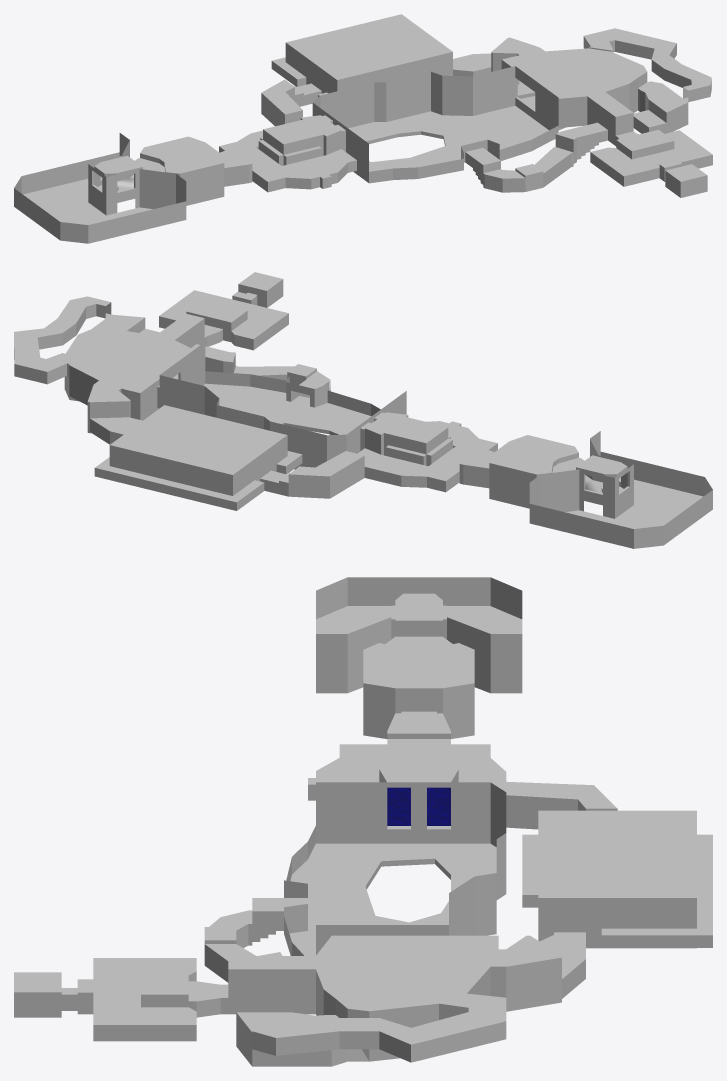
3 renders of one model, top to bottom at view 1: azimuth 30°, elevation 25°; view 2: azimuth 150°, elevation 25°; view 3: azimuth 270°, elevation 25°, orthographic. The views are drawn at different scales.
Visible parts, largest first — view 1: room9_Plane.007, room1_Plane.001, room6_Plane.002, room7_Plane.003, room4_Vert.001, Plane_Plane.004, room2_Plane.006, room8_Plane.005, room10_Plane.008, room11_Plane.009, room5_Plane, room3_Vert; view 2: room6_Plane.002, room9_Plane.007, room1_Plane.001, room7_Plane.003, room4_Vert.001, Plane_Plane.004, room2_Plane.006, room10_Plane.008, room5_Plane, room8_Plane.005, room3_Vert, room11_Plane.009; view 3: room9_Plane.007, room6_Plane.002, room7_Plane.003, room1_Plane.001, Plane_Plane.004, room2_Plane.006, room10_Plane.008, room4_Vert.001, room8_Plane.005, room5_Plane, room11_Plane.009, room3_Vert.
Part boxes in pixels (x1,y1,x2,y2): room9_Plane.007: (312,66,558,183); room1_Plane.001: (14,133,186,243); room6_Plane.002: (271,14,491,97); room7_Plane.003: (491,37,647,146); room4_Vert.001: (219,110,356,192); Plane_Plane.004: (590,129,712,197); room2_Plane.006: (94,136,224,205); room8_Plane.005: (465,122,607,192); room10_Plane.008: (583,28,711,102); room11_Plane.009: (633,81,688,133); room5_Plane: (261,79,321,126); room3_Vert: (220,148,252,186); room6_Plane.002: (90,401,302,510); room9_Plane.007: (157,342,406,469); room1_Plane.001: (529,431,712,548); room7_Plane.003: (64,313,222,432); room4_Vert.001: (357,412,497,492); Plane_Plane.004: (159,272,288,350); room2_Plane.006: (489,435,627,508); room10_Plane.008: (14,296,111,384); room5_Plane: (260,451,364,498); room8_Plane.005: (191,344,330,406); room3_Vert: (459,448,494,488); room11_Plane.009: (90,314,159,335); room9_Plane.007: (284,782,506,955); room6_Plane.002: (522,810,712,998); room7_Plane.003: (188,935,561,1061); room1_Plane.001: (316,577,522,693); Plane_Plane.004: (14,958,196,1041); room2_Plane.006: (363,593,474,738); room10_Plane.008: (252,992,506,1062); room4_Vert.001: (308,739,506,825); room8_Plane.005: (204,898,307,982); room5_Plane: (506,781,617,829); room11_Plane.009: (236,1012,347,1066); room3_Vert: (387,711,450,738).
Bounding box in the file's own units: 458 × 40 × 282.
